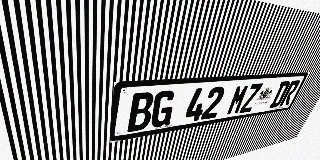2: (201, 86, 226, 120)
4: (184, 87, 210, 123)
B: (127, 92, 155, 132)
D: (269, 81, 291, 108)
G: (150, 90, 177, 129)
M: (226, 84, 250, 116)
R: (279, 80, 301, 106)
Z: (239, 83, 263, 113)
